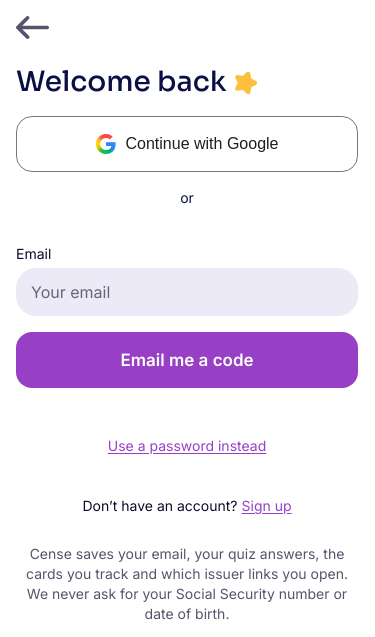
Test: SignInFlow › sends the trimmed email in the request body and never in the address
The image size is (375, 637).
Type " student@example.edu " into the field labelled "Email" at [190, 292], box [31,269,349,315]
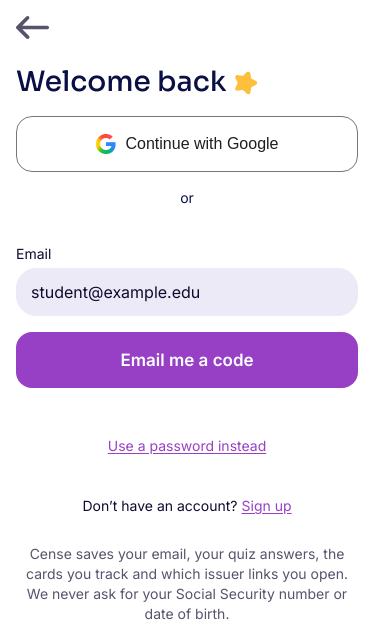
Click the button "Email me a code" at [187, 360], box [16,332,358,388]
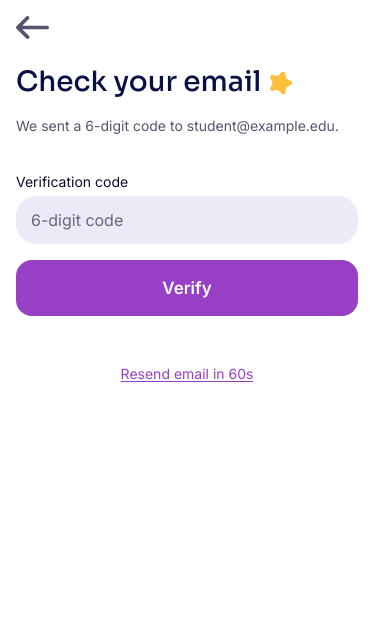
Result: the heading "Check your email" is shown at [16,64,261,100]
Result: the text "We sent a 6-digit code to student@example.edu." is shown at [16,116,358,136]
